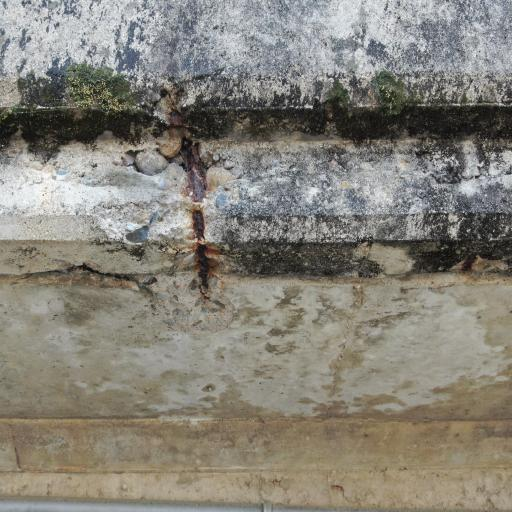exposed_rebar: (181, 139, 206, 203), (192, 206, 209, 293), (192, 208, 209, 292), (168, 110, 182, 128)
